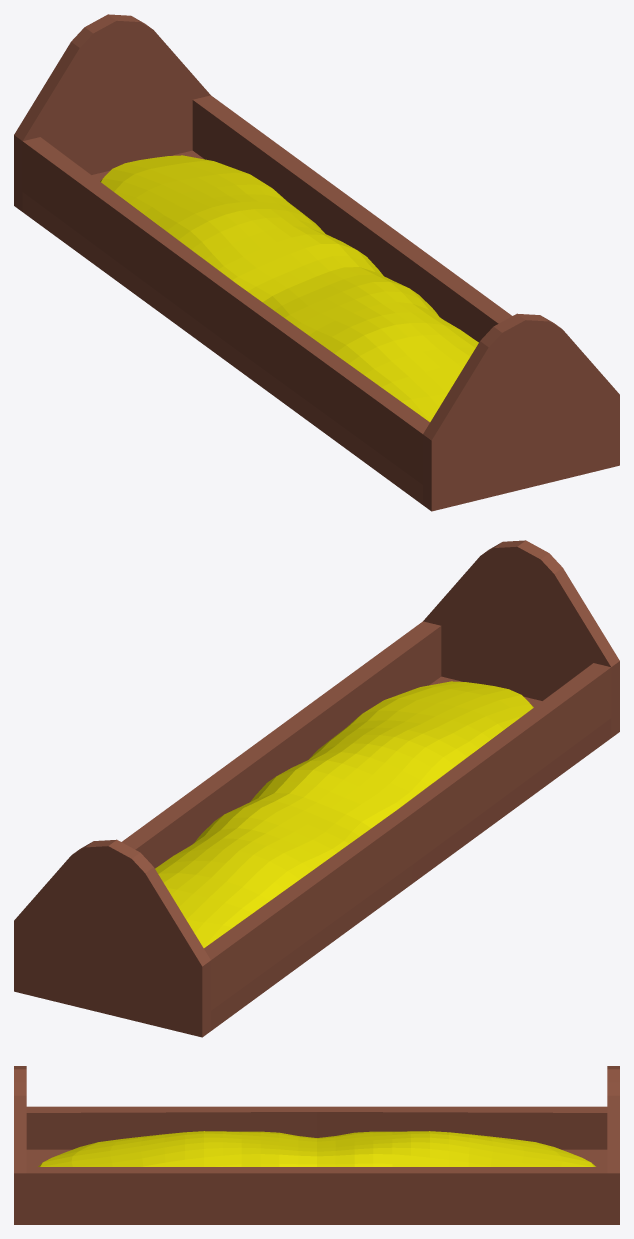
File: mangeoire.fbx
3 views of the same model, one above another, from view 1: azimuth 30°, elevation 25°; view 2: azimuth 150°, elevation 25°; view 3: azimuth 270°, elevation 25° (orthographic). The views are drawn at different scales.
Parts seen in each view (by area): view 1: Plane, Plane.001; view 2: Plane, Plane.001; view 3: Plane, Plane.001.
Boxes of the visible parts, x1=… form: Plane: x1=14, y1=14, x2=619, y2=511; Plane.001: x1=100, y1=155, x2=478, y2=421; Plane: x1=14, y1=540, x2=619, y2=1037; Plane.001: x1=155, y1=681, x2=533, y2=947; Plane: x1=14, y1=1066, x2=619, y2=1224; Plane.001: x1=38, y1=1131, x2=595, y2=1166.
Size of the model in its own units: 192 by 42.75 by 50.36.
